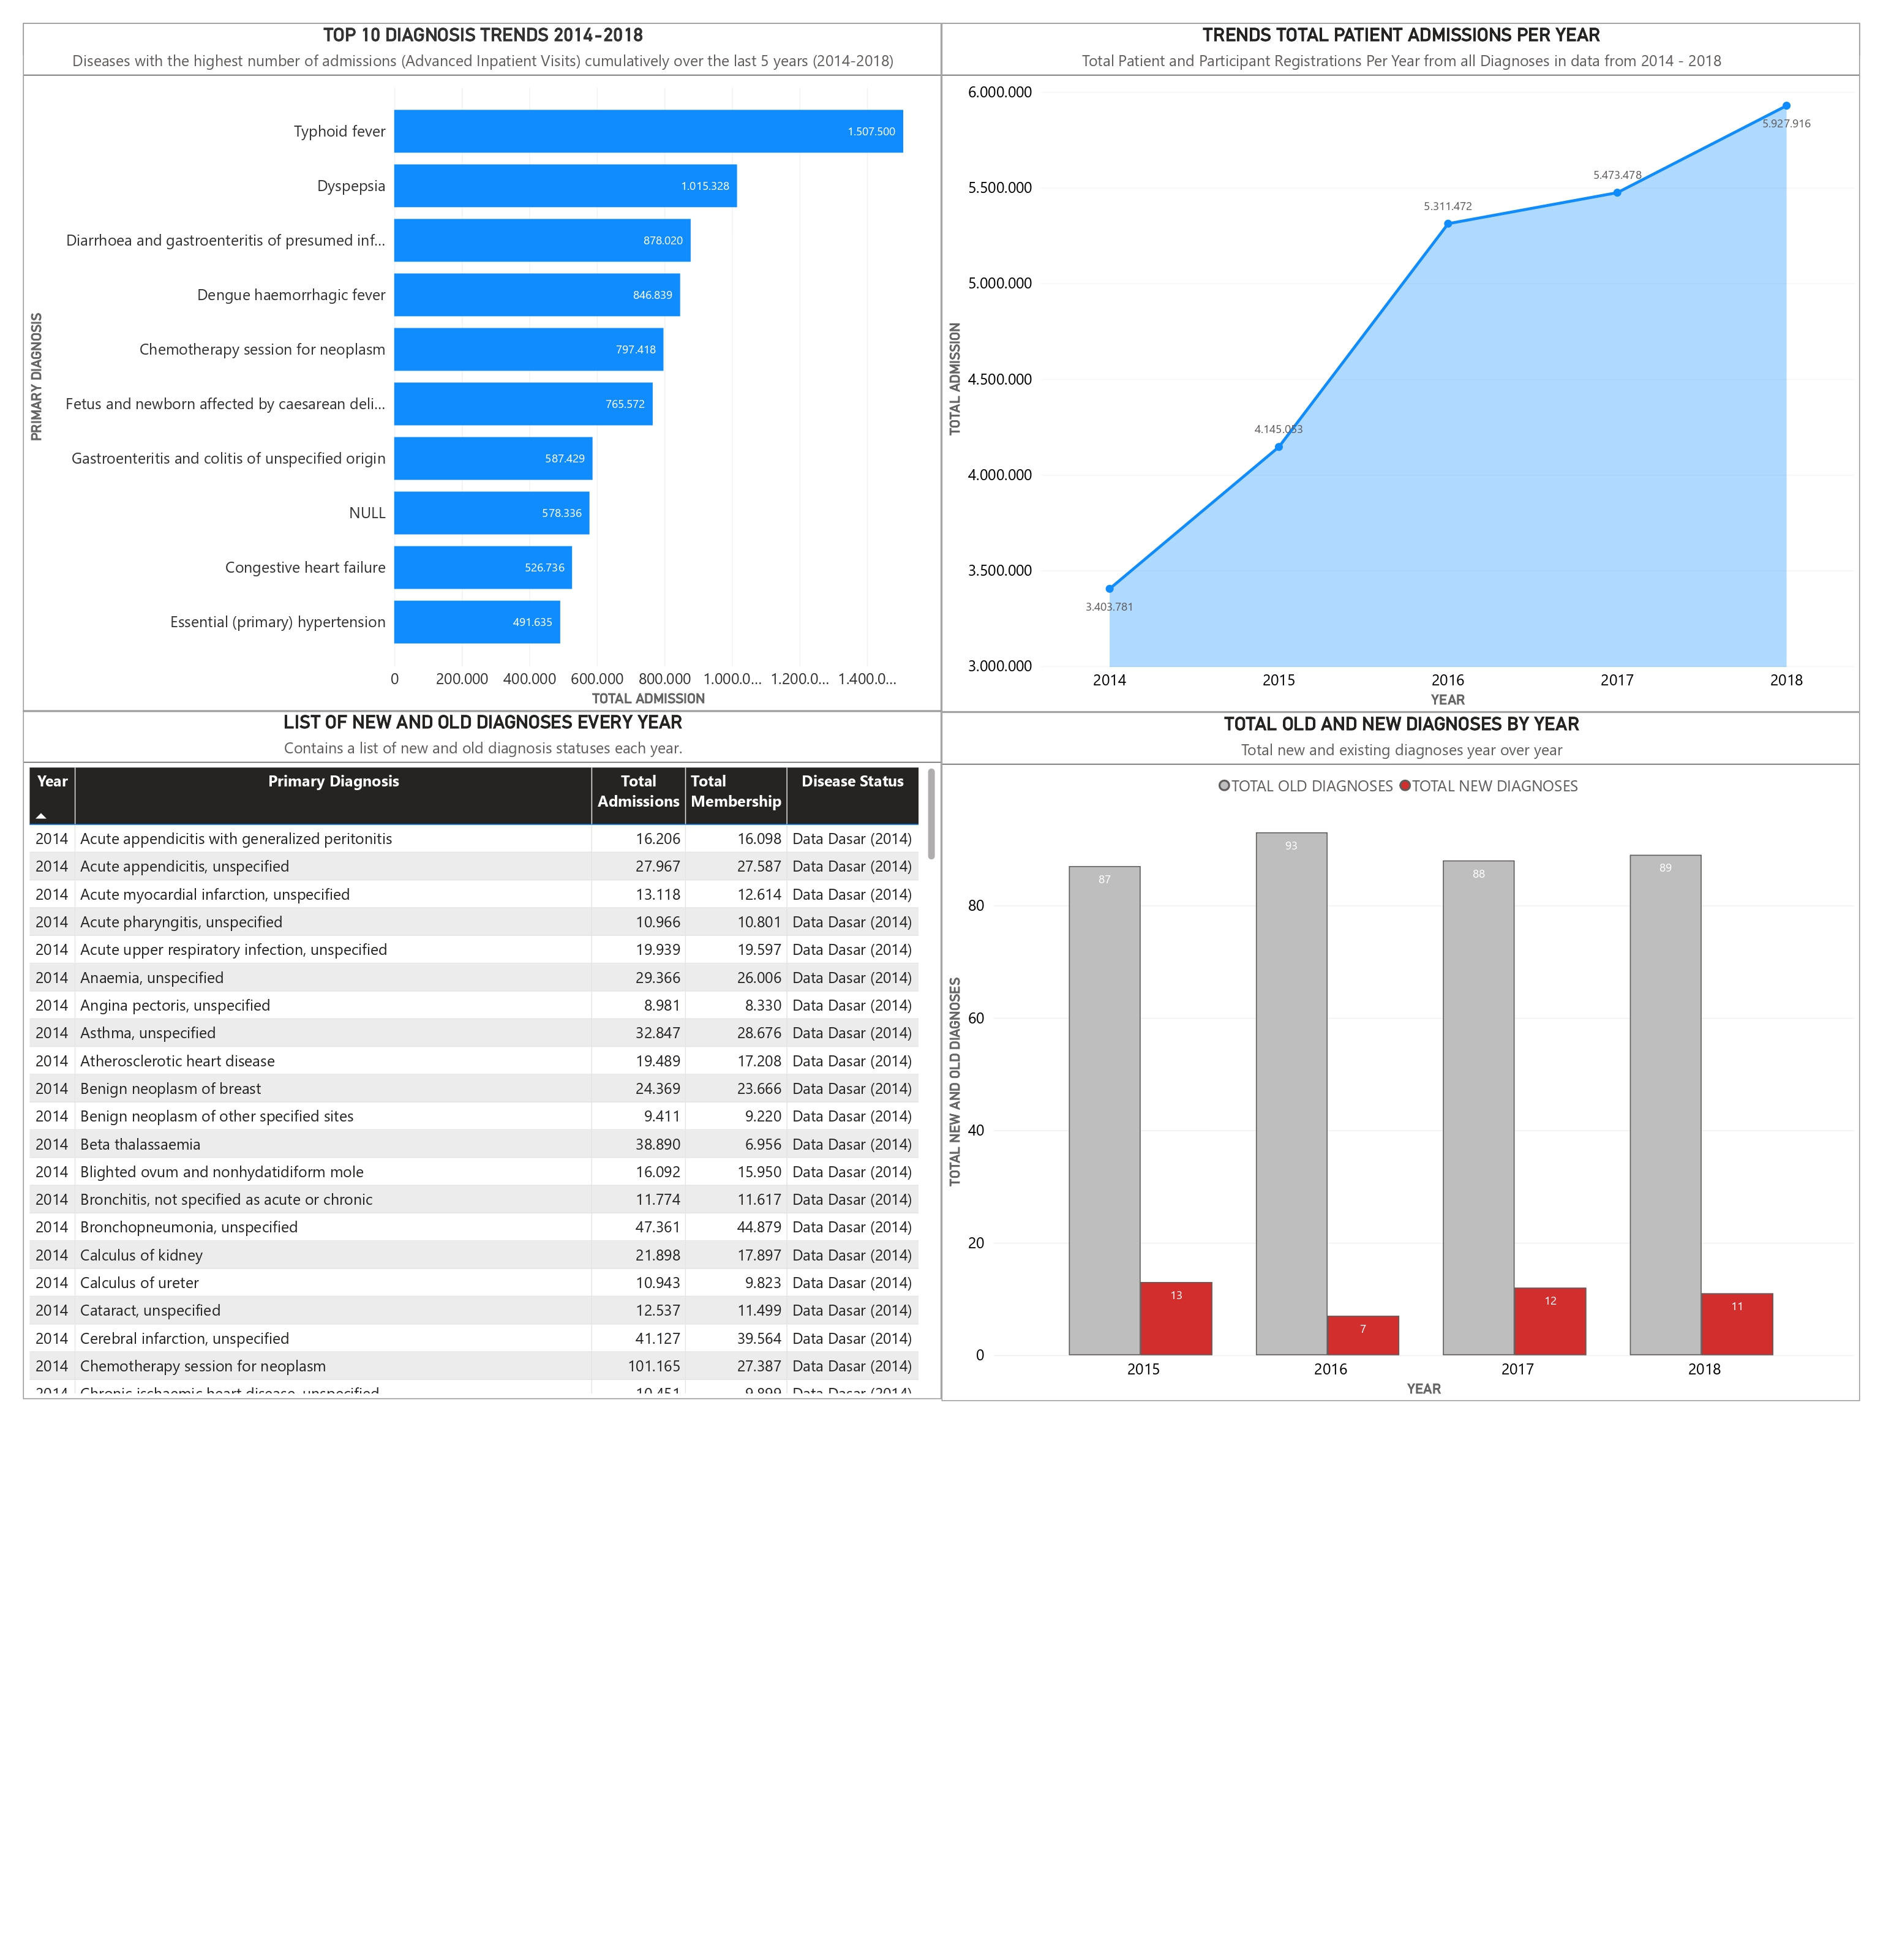

Layout of this report page (visuals, bound fields, positions):
{"tool":"powerbi","page":{"name":"Pilar 1: Operasional & Mutu Klinis (Clinical Operations)","canvas":[1920,2000],"ordinal":1},"visuals":[{"type":"clusteredBarChart","title":"TOP 10 DIAGNOSIS TRENDS 2014-2018","fields":{"Category":["Master_RITL_2014_2018.Diagnosis Primer"],"Y":["Master_RITL_2014_2018.Total Admisi"]},"box":[0,0,960,720],"z":0},{"type":"lineChart","title":"TRENDS TOTAL PATIENT ADMISSIONS  PER YEAR","fields":{"Category":["Master_RITL_2014_2018.Tahun"],"Y":["Master_RITL_2014_2018.Total Admisi"]},"box":[960,0,960,720],"z":1000},{"type":"tableEx","title":"LIST OF NEW AND OLD DIAGNOSES EVERY YEAR","fields":{"Values":["Master_RITL_2014_2018.Tahun","Master_RITL_2014_2018.Diagnosis Primer","Master_RITL_2014_2018.Total Admisi","Master_RITL_2014_2018.Total Peserta","Master_RITL_2014_2018.Status Penyakit"]},"box":[0,718.3,960,720],"z":2000},{"type":"clusteredColumnChart","title":"TOTAL OLD AND NEW DIAGNOSES BY YEAR","fields":{"Category":["Master_RITL_2014_2018.Tahun"],"Y":["Master_RITL_2014_2018.Total Penyakit Lama","Master_RITL_2014_2018.Total Penyakit Baru"]},"box":[960,720,960,720],"z":3000}]}

Visuals, with their boxes in screenshot pixels (x1, y1, x2, y2), scaled from the page's 1920x2000 canvas onto the 1883x1960 screenshot:
"TOP 10 DIAGNOSIS TRENDS 2014-2018" clusteredBarChart: x1=0, y1=0, x2=942, y2=706
"TRENDS TOTAL PATIENT ADMISSIONS  PER YEAR" lineChart: x1=942, y1=0, x2=1882, y2=706
"LIST OF NEW AND OLD DIAGNOSES EVERY YEAR" tableEx: x1=0, y1=704, x2=942, y2=1409
"TOTAL OLD AND NEW DIAGNOSES BY YEAR" clusteredColumnChart: x1=942, y1=706, x2=1882, y2=1411
